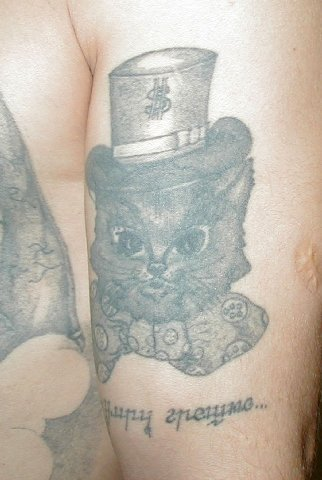tatu3_bukva: (97, 393, 276, 427)
tatu8_kot: (76, 37, 281, 384)
